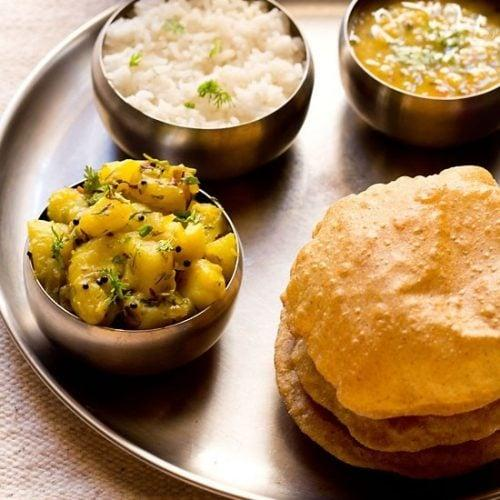puri: (281, 171, 500, 479)
